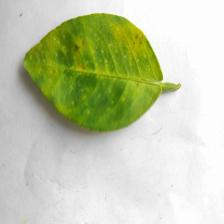greening: (66, 29, 154, 106)
